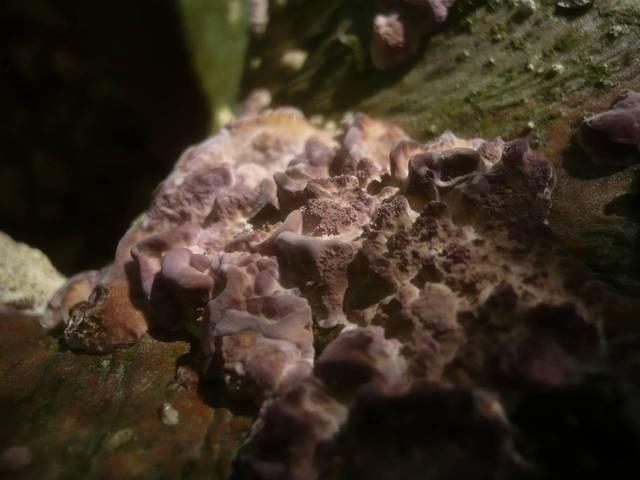poisonous_mushroom: (37, 91, 608, 476)
